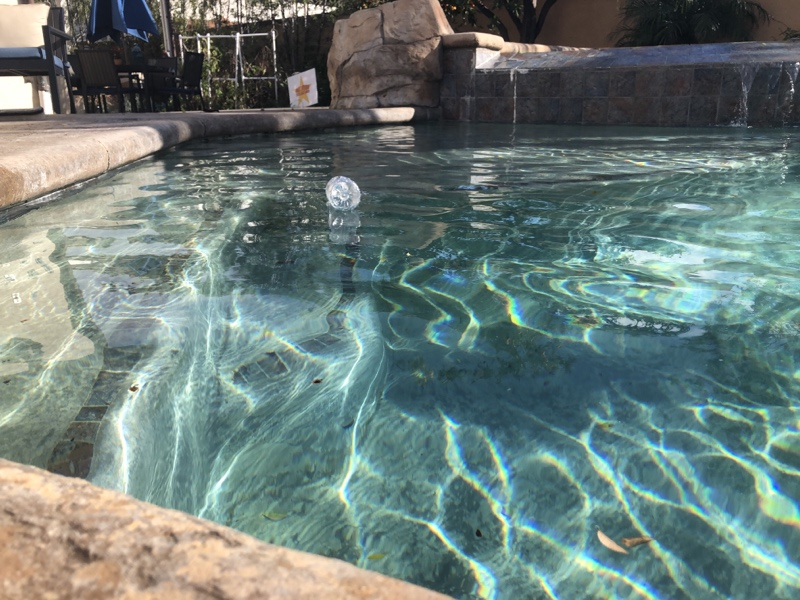Plastic Bottle: (321, 173, 364, 214)
